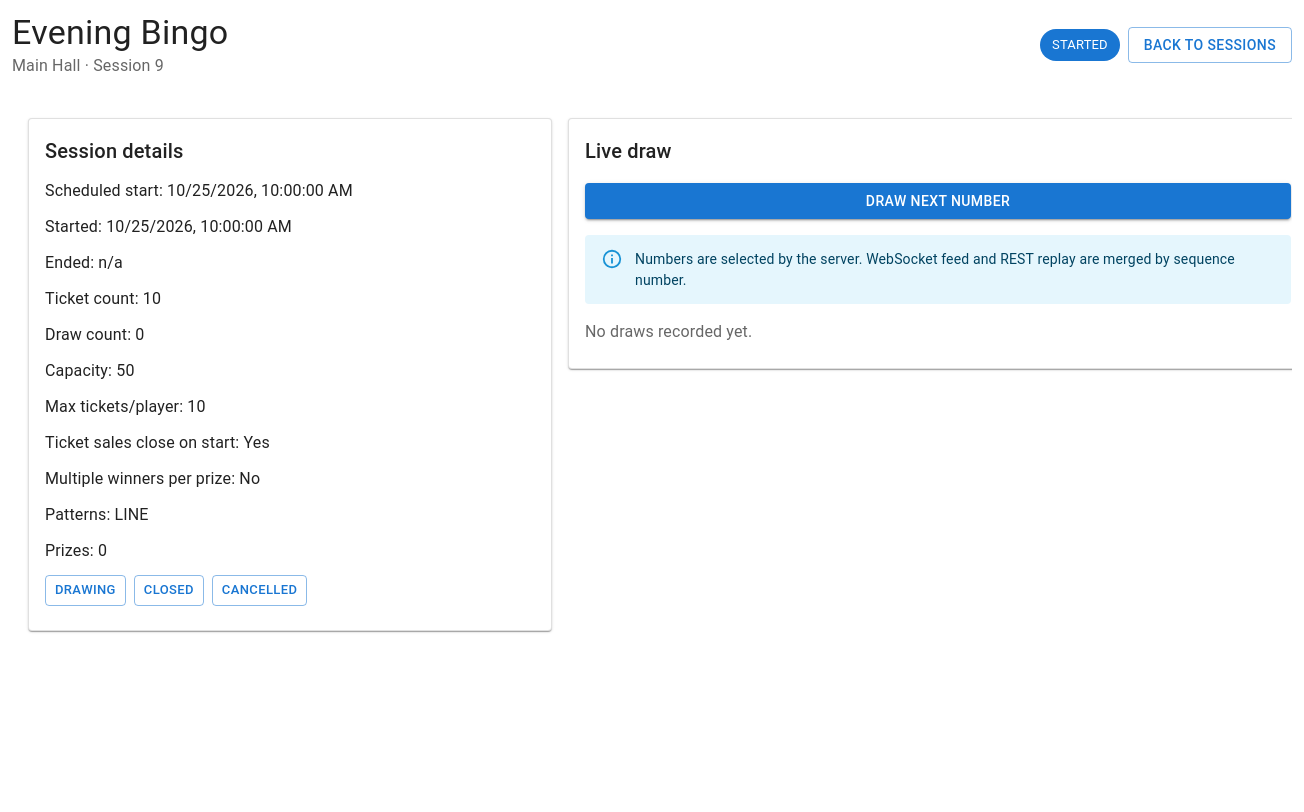
Test case: SessionDetailPage automatic draws › has no number entry and displays the server-selected result
Click the button "Draw next number" at (938, 201), box [585,183,1291,220]
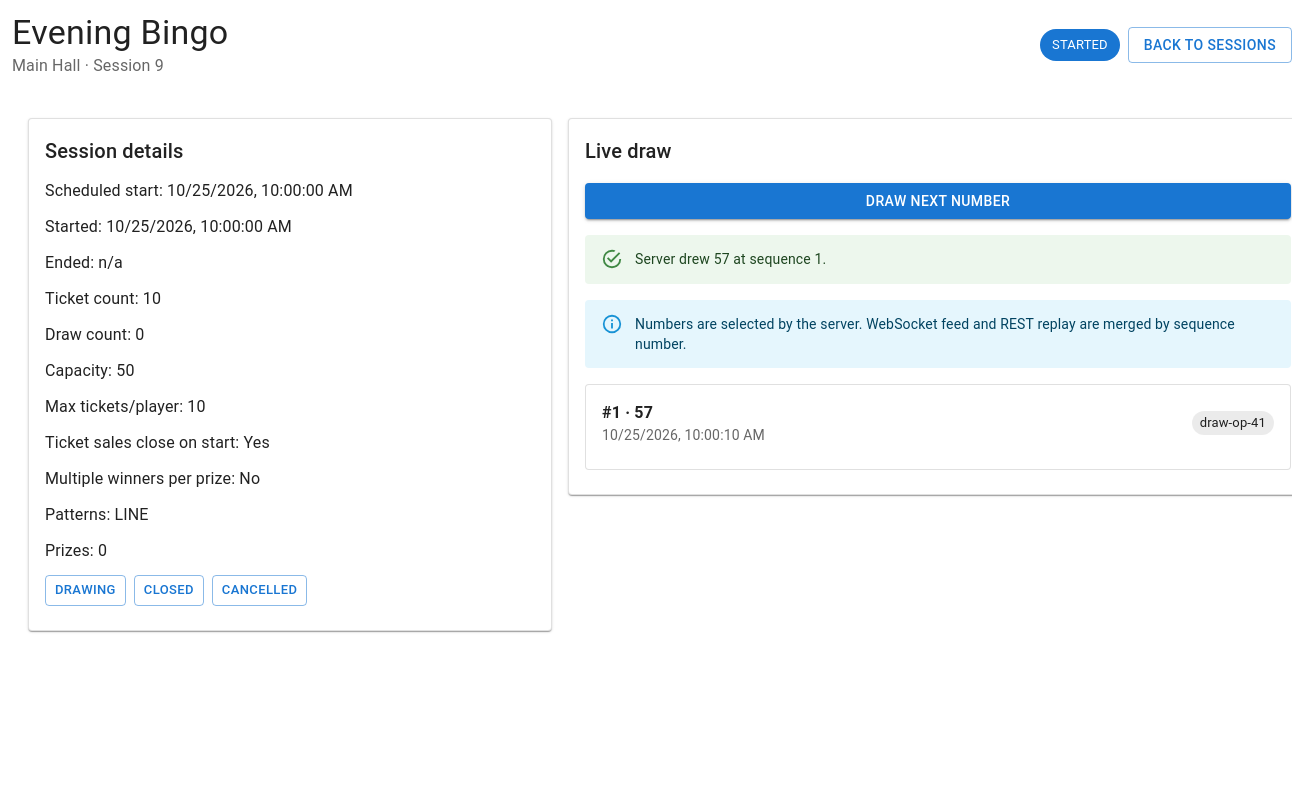
Now the message with test id "automatic-draw-result" reads "Server drew 57 at sequence 1.", box [585,236,1291,284]
